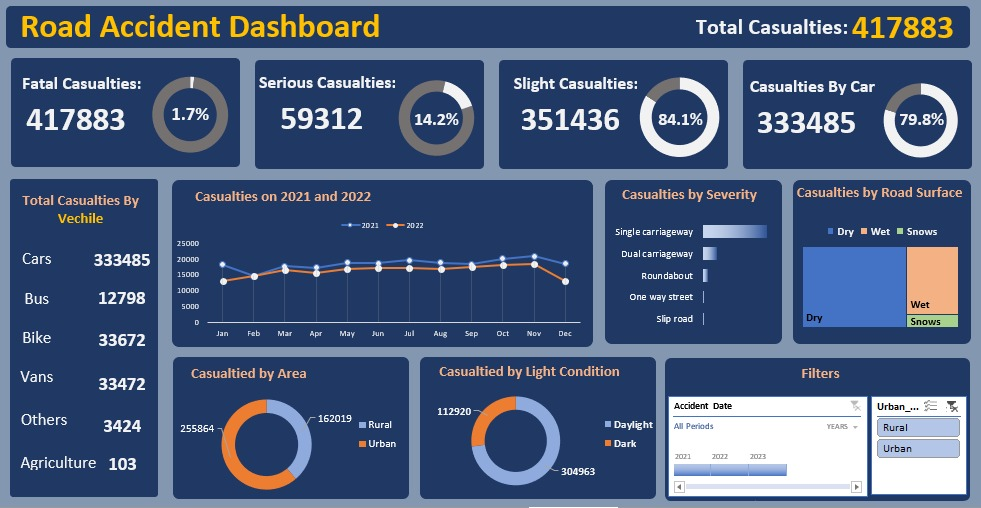

The dashboard page shown, as its layout file describes it:
{"tool":"powerbi","page":{"name":"Page 1","canvas":[1280,720],"ordinal":0},"visuals":[{"type":"group","id":"g1","title":"Group 1","box":[23.3,98.3,211.7,113.3],"z":0},{"type":"card","title":"Total CY Casualties","fields":{"Values":["Data.CY Casualties"]},"box":[23.3,98.3,211.7,80],"z":0,"group":"g1"},{"type":"card","title":"Total CY Accidents","fields":{"Values":["Data.Total CY Accidents Count"]},"box":[273.3,98.3,211.7,80],"z":0,"group":"g2"},{"type":"card","title":"CY Fatal Casualties","fields":{"Values":["Data.CY Casualties"]},"box":[533.3,98.3,211.7,80],"z":0,"group":"g3"},{"type":"card","title":"CY Serious Casualties","fields":{"Values":["Data.CY Casualties"]},"box":[785,98.3,211.7,80],"z":0,"group":"g4"},{"type":"card","title":"CY Slight Casualties","fields":{"Values":["Data.CY Casualties"]},"box":[1041.7,98.3,211.7,80],"z":0,"group":"g5"},{"type":"group","id":"g2","title":"Group 1","box":[273.3,98.3,211.7,113.3],"z":1000},{"type":"card","fields":{"Values":["Data.YoY Casualties"]},"box":[73.3,171.6,85,40],"z":1000,"group":"g1"},{"type":"card","fields":{"Values":["Data.YoY Accidents"]},"box":[323.3,171.6,85,40],"z":1000,"group":"g2"},{"type":"card","fields":{"Values":["Data.YoY Casualties"]},"box":[583.3,171.6,85,40],"z":1000,"group":"g3"},{"type":"card","fields":{"Values":["Data.YoY Casualties"]},"box":[835,171.6,85,40],"z":1000,"group":"g4"},{"type":"card","fields":{"Values":["Data.YoY Casualties"]},"box":[1091.7,171.6,85,40],"z":1000,"group":"g5"},{"type":"group","id":"g3","title":"Group 1","box":[533.3,98.3,211.7,113.3],"z":2000},{"type":"group","id":"g4","title":"Group 1","box":[785,98.3,211.7,113.3],"z":3000},{"type":"group","id":"g5","title":"Group 1","box":[1041.7,98.3,211.7,113.3],"z":4000},{"type":"textbox","box":[23.3,7.8,474.4,68.9],"z":5000},{"type":"multiRowCard","fields":{"Values":["Data.Vehicle_Type (groups)","Data.CY Casualties"]},"box":[106,260,154,442],"z":6000},{"type":"textbox","box":[24.4,222.2,227.8,37.8],"z":7000},{"type":"areaChart","title":"CY Casualties VS PY Casualties Trend","fields":{"Category":["Calendar.Month"],"Y":["Sum(Data.Number_of_Casualties)"],"Series":["Calendar.Date.Variation.Date Hierarchy.Year"]},"box":[261.1,230,452.2,220],"z":8000},{"type":"barChart","fields":{"Category":["Data.Road_Type"],"Y":["Data.CY Casualties"]},"box":[260,466.7,453.3,235],"z":9000},{"type":"donutChart","fields":{"Category":["Data.Urban_or_Rural_Area"],"Y":["Data.CY Casualties"]},"box":[728.3,221.7,246.7,228.3],"z":10000},{"type":"donutChart","title":"CY Casualties by Light_Conditions ","fields":{"Y":["Data.CY Casualties"],"Category":["Data.Light_Conditions (groups)"]},"box":[728.3,470,246.7,228.3],"z":11000},{"type":"image","box":[13.3,338.3,93.3,56.7],"z":12000},{"type":"image","box":[13.3,411.7,93.3,58.3],"z":13000},{"type":"image","box":[13.3,490,93.3,58.3],"z":14000},{"type":"image","box":[11.7,640,93.3,58.3],"z":15000},{"type":"image","box":[20,266.7,83.3,58.3],"z":16000},{"type":"image","box":[18.3,568.3,75,53.3],"z":17000},{"type":"slicer","fields":{"Values":["Data.Weather_Conditions (groups)"]},"box":[1041.7,8.3,200,68.3],"z":18000},{"type":"slicer","fields":{"Values":["Data.Road_Surface_Conditions"]},"box":[796.7,8.3,195,68.3],"z":19000},{"type":"barChart","title":"Casualties By Districts","fields":{"Y":["Sum(Data.Number_of_Casualties)"],"Category":["Data.Local_Authority_(District)"]},"box":[991.7,222.2,260.8,481.1],"z":20000}]}

Visuals, with their boxes on the page's 1280x720 design canvas (x1, y1, x2, y2). These are canvas units, not pixel positions in the 981x508 screenshot, which may show the page scaled, cropped or inside an application window:
"Group 1" group: Rect(23, 98, 235, 212)
"Total CY Casualties" card: Rect(23, 98, 235, 178)
"Total CY Accidents" card: Rect(273, 98, 485, 178)
"CY Fatal Casualties" card: Rect(533, 98, 745, 178)
"CY Serious Casualties" card: Rect(785, 98, 997, 178)
"CY Slight Casualties" card: Rect(1042, 98, 1253, 178)
"Group 1" group: Rect(273, 98, 485, 212)
card - Data.YoY Casualties: Rect(73, 172, 158, 212)
card - Data.YoY Accidents: Rect(323, 172, 408, 212)
card - Data.YoY Casualties: Rect(583, 172, 668, 212)
card - Data.YoY Casualties: Rect(835, 172, 920, 212)
card - Data.YoY Casualties: Rect(1092, 172, 1177, 212)
"Group 1" group: Rect(533, 98, 745, 212)
"Group 1" group: Rect(785, 98, 997, 212)
"Group 1" group: Rect(1042, 98, 1253, 212)
textbox: Rect(23, 8, 498, 77)
multiRowCard - Data.Vehicle_Type (groups) x Data.CY Casualties: Rect(106, 260, 260, 702)
textbox: Rect(24, 222, 252, 260)
"CY Casualties VS PY Casualties Trend" areaChart: Rect(261, 230, 713, 450)
barChart - Data.Road_Type x Data.CY Casualties: Rect(260, 467, 713, 702)
donutChart - Data.Urban_or_Rural_Area x Data.CY Casualties: Rect(728, 222, 975, 450)
"CY Casualties by Light_Conditions " donutChart: Rect(728, 470, 975, 698)
image: Rect(13, 338, 107, 395)
image: Rect(13, 412, 107, 470)
image: Rect(13, 490, 107, 548)
image: Rect(12, 640, 105, 698)
image: Rect(20, 267, 103, 325)
image: Rect(18, 568, 93, 622)
slicer - Data.Weather_Conditions (groups): Rect(1042, 8, 1242, 77)
slicer - Data.Road_Surface_Conditions: Rect(797, 8, 992, 77)
"Casualties By Districts" barChart: Rect(992, 222, 1252, 703)
